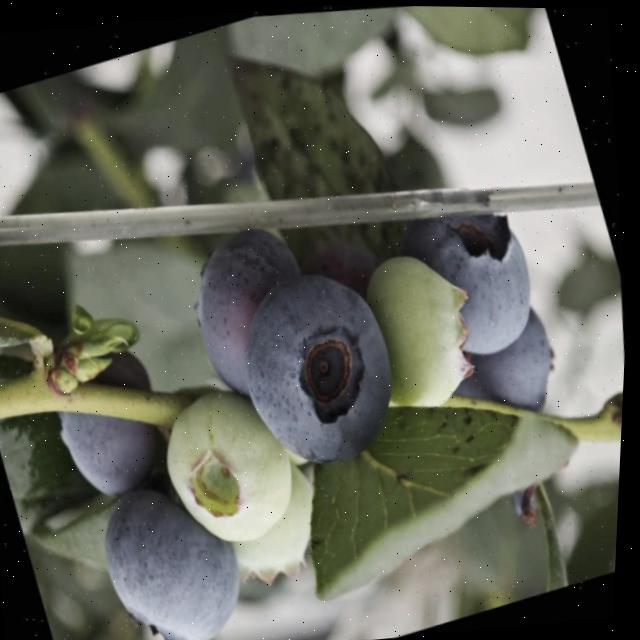RipeBlueBerry: (212, 239, 434, 488), (81, 452, 274, 640)
UnripeBlueBerry: (144, 360, 326, 562)
